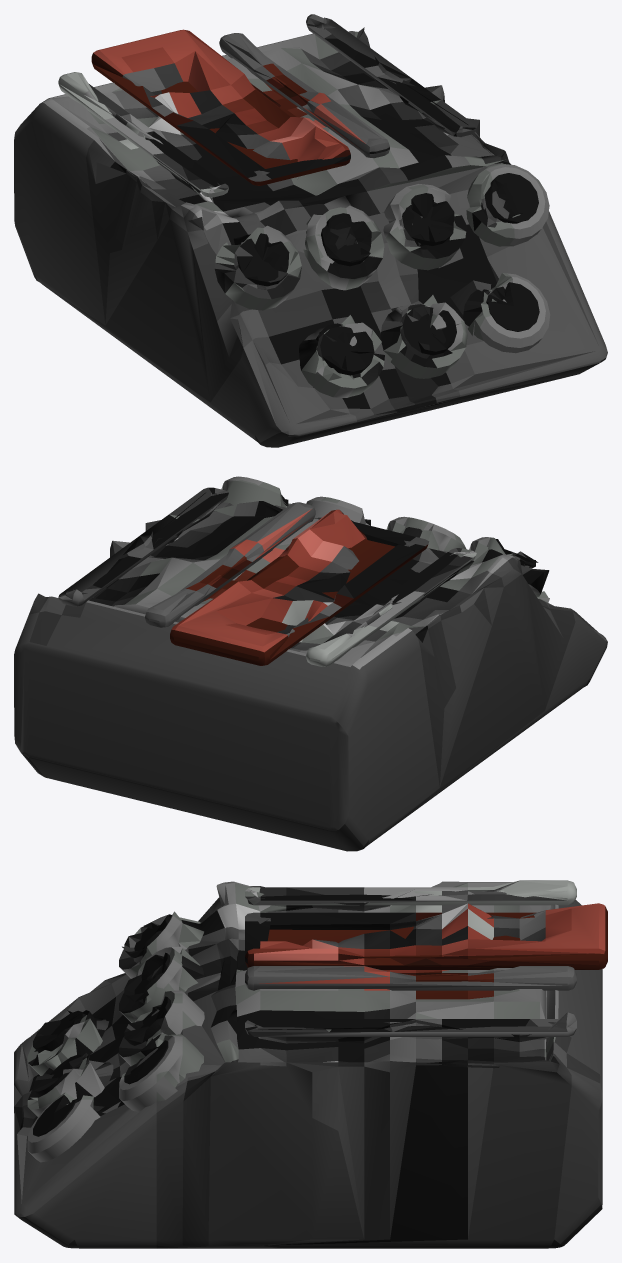
Rendered from carrier_launcher_damaged.glb.
3 views of the same model, one above another, from view 1: azimuth 30°, elevation 25°; view 2: azimuth 150°, elevation 25°; view 3: azimuth 270°, elevation 25° (orthographic). The views are drawn at different scales.
Visible parts, largest first — view 1: pod, stripe, rib1.3, rib-6.5, rib5.5, tube5, tube0, tube2, tube3, tube4, tube6, tube1 (+7 smaller); view 2: pod, stripe, rib1.3, rib-6.5, rib5.5, tube1, tube3, tube0, tube2; view 3: pod, stripe, rib-6.5, rib1.3, rib5.5, tube3, tube6, tube1, tube2, tube4, tube5, tube0 (+7 smaller).
Boxes of the visible parts, x1,y1,x2,y2 form: pod: [14, 27, 607, 447]; stripe: [91, 29, 350, 185]; rib1.3: [219, 33, 389, 158]; rib-6.5: [58, 72, 228, 202]; rib5.5: [306, 14, 476, 137]; tube5: [380, 295, 467, 378]; tube0: [214, 225, 301, 310]; tube2: [383, 184, 466, 270]; tube3: [466, 163, 549, 246]; tube4: [299, 315, 384, 397]; tube6: [463, 273, 550, 353]; tube1: [303, 205, 384, 290]; pod: [14, 501, 607, 851]; stripe: [170, 509, 429, 665]; rib1.3: [145, 502, 315, 627]; rib-6.5: [306, 548, 476, 666]; rib5.5: [58, 487, 228, 606]; tube1: [386, 516, 466, 551]; tube3: [221, 476, 290, 507]; tube0: [469, 537, 549, 597]; tube2: [306, 496, 369, 525]; pod: [14, 881, 602, 1248]; stripe: [245, 903, 607, 969]; rib-6.5: [245, 880, 576, 912]; rib1.3: [245, 966, 576, 990]; rib5.5: [245, 1012, 576, 1043]; tube3: [119, 1034, 203, 1111]; tube6: [27, 1092, 110, 1162]; tube1: [119, 946, 203, 1022]; tube2: [119, 990, 204, 1066]; tube4: [27, 1010, 108, 1075]; tube5: [27, 1053, 113, 1116]; tube0: [119, 911, 203, 978].
Bounding box in the file's own units: 16.3 × 11.59 × 22.9.
